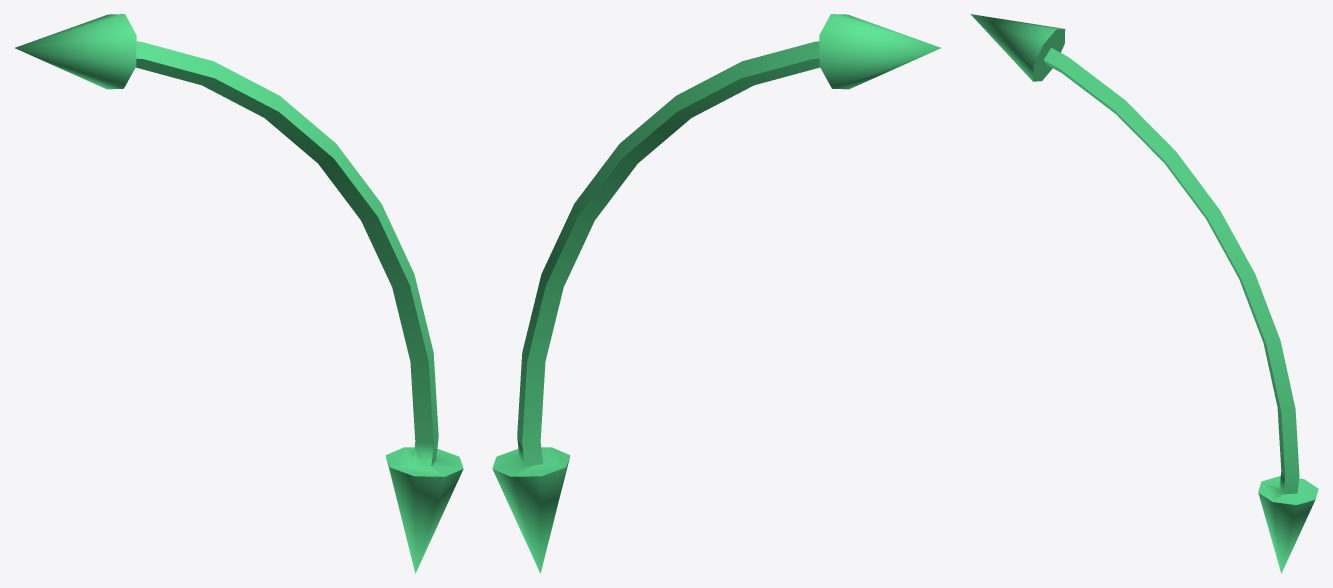
File: of2_arrow01.DAE
The picture shows the model from 3 angles, left to right: view 1: azimuth 30°, elevation 25°; view 2: azimuth 150°, elevation 25°; view 3: azimuth 330°, elevation 25°; orthographic projection. The views are drawn at different scales.
Visible parts, largest first — view 1: Arrow01_PIVOT; view 2: Arrow01_PIVOT; view 3: Arrow01_PIVOT.
Part boxes in pixels (<box>): Arrow01_PIVOT: <box>15,14,463,573</box>; Arrow01_PIVOT: <box>492,14,940,573</box>; Arrow01_PIVOT: <box>970,14,1318,573</box>.
Size of the model in its own units: 38.07 by 6.01 by 51.54.
